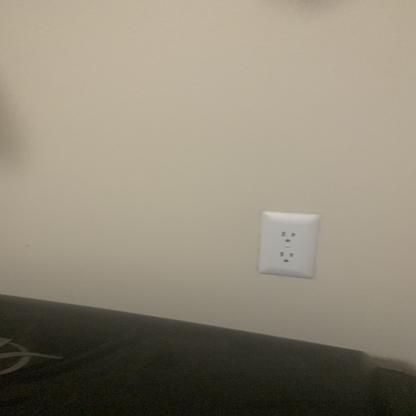OUTLET: (260, 211, 318, 279)
